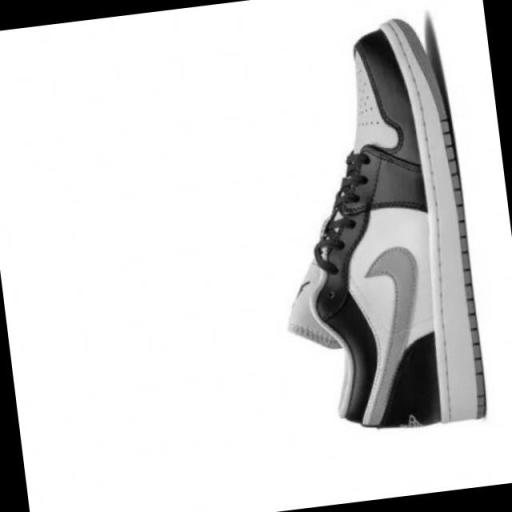Nike: (345, 240, 438, 431)
